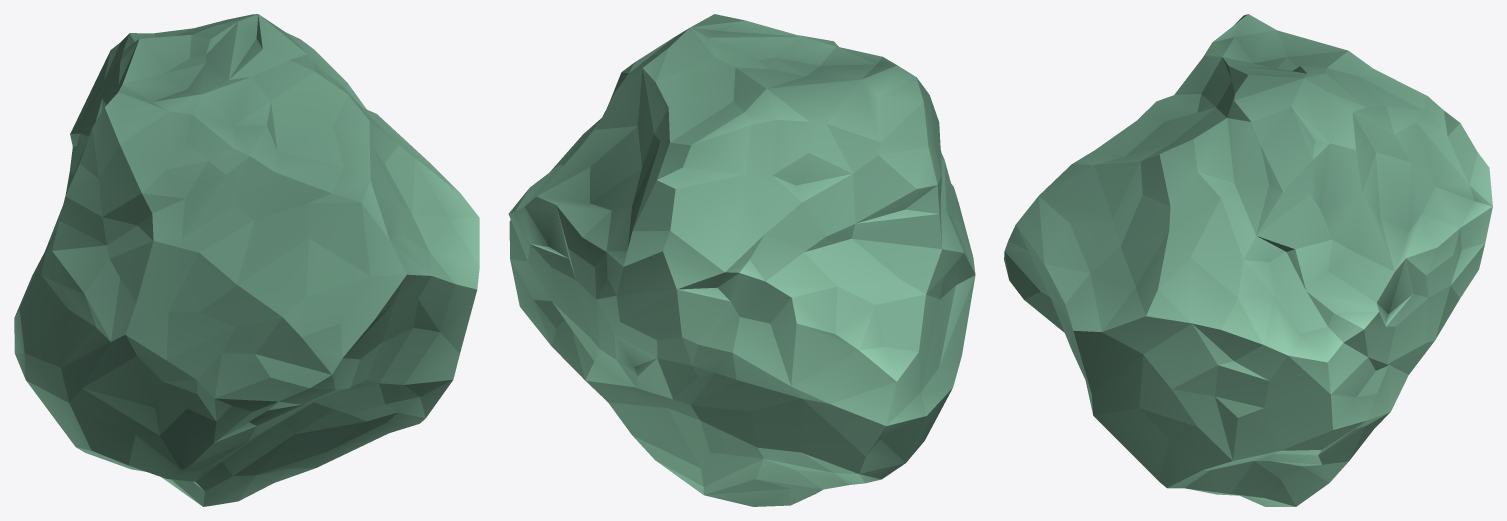
Rendered from snowparticle_anim_3_9_neg1.glb.
3 views of the same model, side by side, from view 1: azimuth 30°, elevation 25°; view 2: azimuth 150°, elevation 25°; view 3: azimuth 270°, elevation 25° (orthographic). The views are drawn at different scales.
Visible parts, largest first — view 1: snowparticle_anim_3_9_neg1; view 2: snowparticle_anim_3_9_neg1; view 3: snowparticle_anim_3_9_neg1.
Part boxes in pixels (left/top/right/bottom): snowparticle_anim_3_9_neg1: left=14, top=14, right=479, bottom=506; snowparticle_anim_3_9_neg1: left=508, top=14, right=975, bottom=506; snowparticle_anim_3_9_neg1: left=1004, top=14, right=1492, bottom=506.
Bounding box in the file's own units: 644 × 724 × 717.
